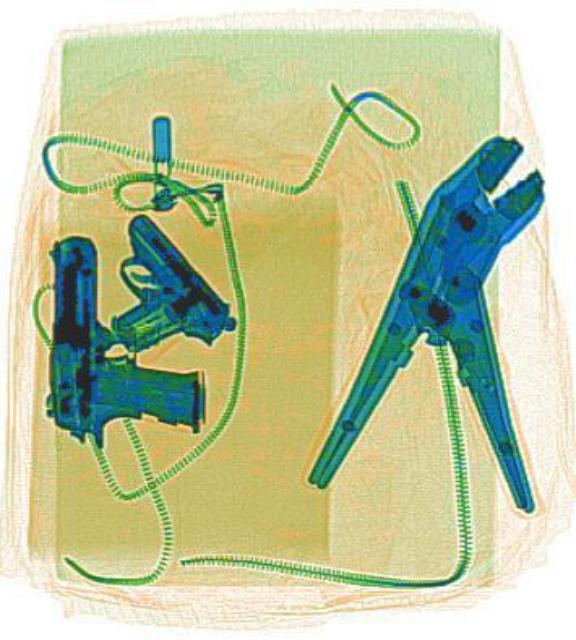Gun: (44, 232, 197, 428), (72, 204, 235, 376)
